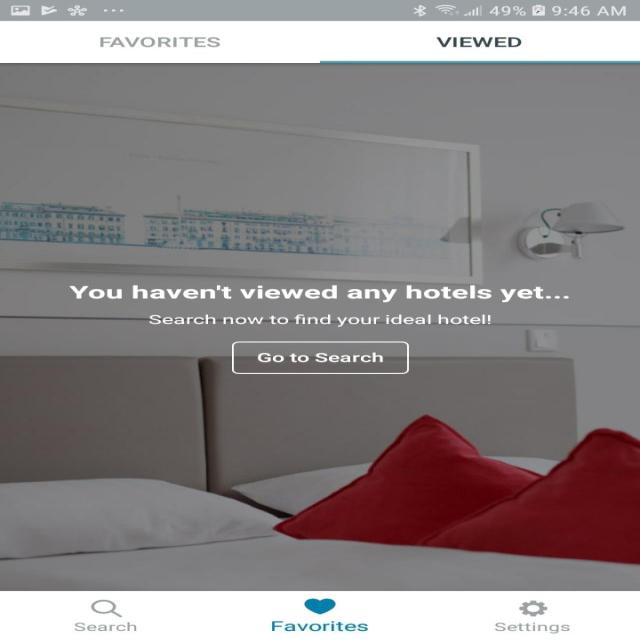Icon: (90, 599, 122, 617), (303, 598, 336, 614), (518, 599, 548, 616)
Image: (0, 63, 639, 590)
Text: (68, 284, 569, 302), (148, 314, 490, 327), (100, 36, 220, 48), (271, 620, 368, 631), (436, 36, 522, 48), (494, 621, 570, 634), (74, 621, 137, 631)
TextButton: (231, 341, 409, 374)
